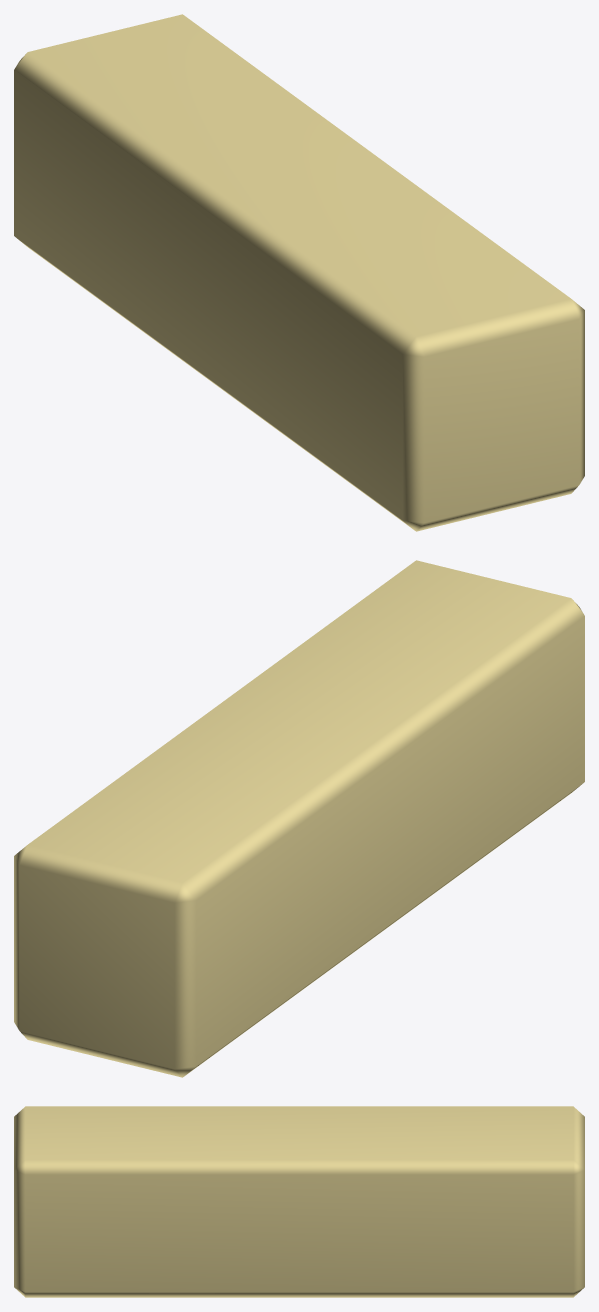
Rendered from butter.fbx.
3 renders of one model, top to bottom at view 1: azimuth 30°, elevation 25°; view 2: azimuth 150°, elevation 25°; view 3: azimuth 270°, elevation 25°, orthographic. The views are drawn at different scales.
Visible parts, largest first — view 1: pCube1; view 2: pCube1; view 3: pCube1.
Boxes of the visible parts, x1,y1,x2,y2 form: pCube1: [14, 14, 584, 531]; pCube1: [14, 560, 584, 1077]; pCube1: [14, 1106, 584, 1297].
Size of the model in its own units: 1.3 by 1.33 by 5.
